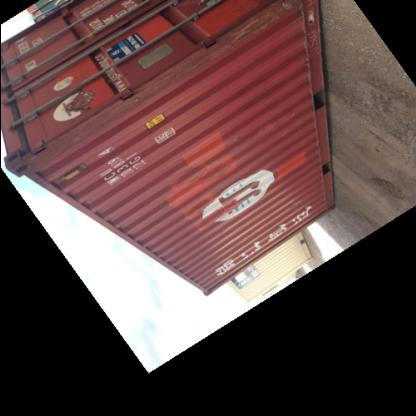Damage: (132, 44, 232, 107), (29, 117, 126, 152), (228, 9, 288, 46), (295, 23, 323, 56)
